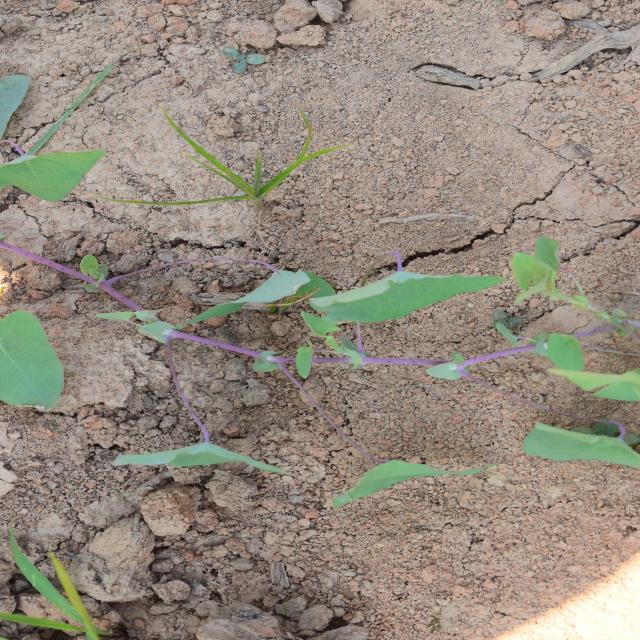Asiatic_Smartweed: (404, 144, 502, 528), (241, 135, 352, 470), (227, 0, 489, 134)
